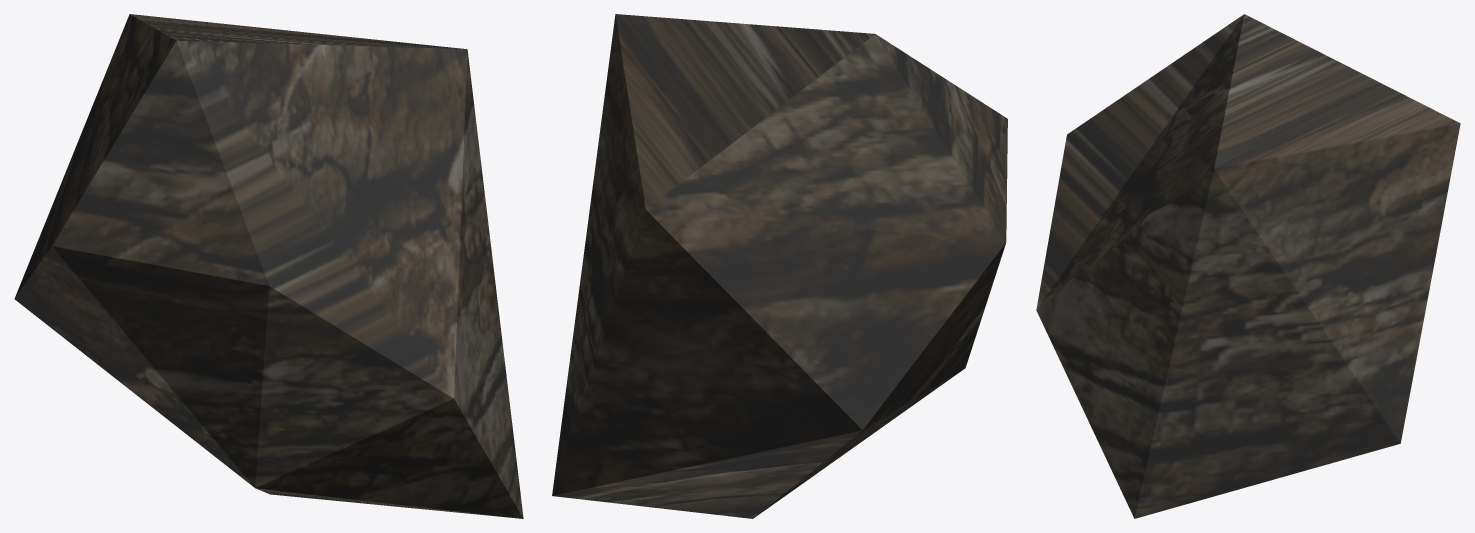
3 renders of one model, left to right at view 1: azimuth 30°, elevation 25°; view 2: azimuth 150°, elevation 25°; view 3: azimuth 270°, elevation 25°, orthographic. The views are drawn at different scales.
Parts seen in each view (by area): view 1: AsteroidB0; view 2: AsteroidB0; view 3: AsteroidB0.
Boxes of the visible parts, bbox=[...] form: AsteroidB0: bbox=[14, 14, 523, 518]; AsteroidB0: bbox=[552, 14, 1007, 518]; AsteroidB0: bbox=[1036, 14, 1460, 518].
Size of the model in its own units: 1.25 by 1.46 by 1.42.
Materials: 1 (1 with a texture image).
